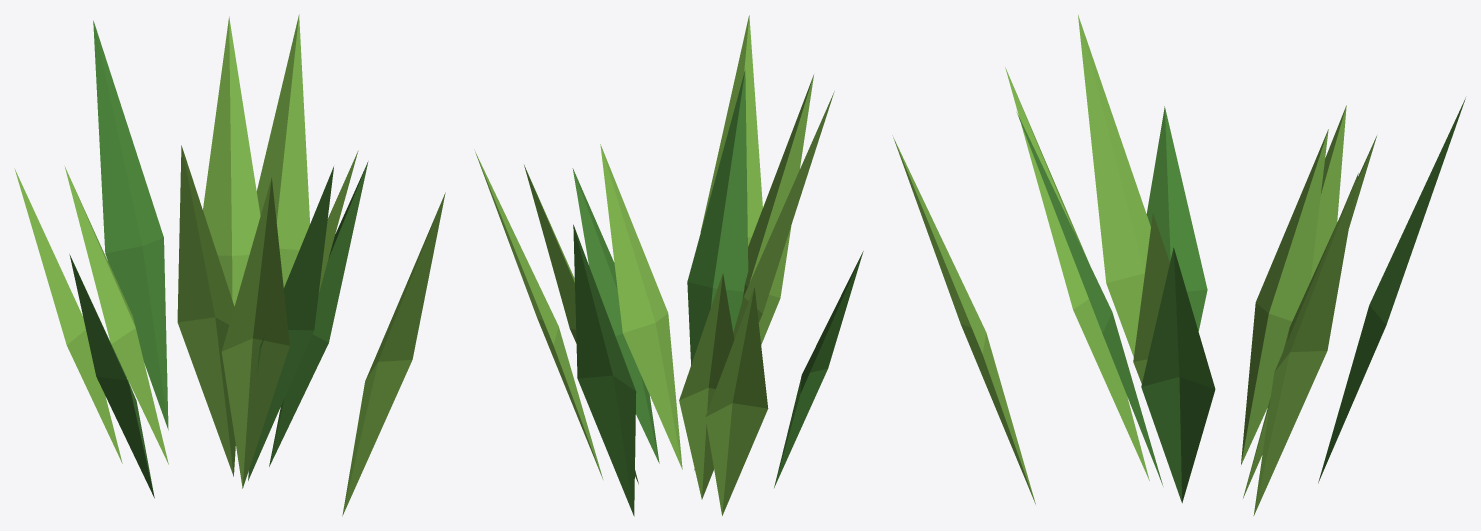
File: grass_clump_01.glb
3 views of the same model, side by side, from view 1: azimuth 30°, elevation 25°; view 2: azimuth 150°, elevation 25°; view 3: azimuth 270°, elevation 25° (orthographic). The views are drawn at different scales.
Visible parts, largest first — view 1: OBJ_grass_clump_01; view 2: OBJ_grass_clump_01; view 3: OBJ_grass_clump_01.
Part boxes in pixels (x1,y1,x2,y2): OBJ_grass_clump_01: [14, 14, 445, 516]; OBJ_grass_clump_01: [474, 15, 863, 516]; OBJ_grass_clump_01: [892, 15, 1465, 515].
Size of the model in its own units: 0.1858 by 0.2174 by 0.2701.
